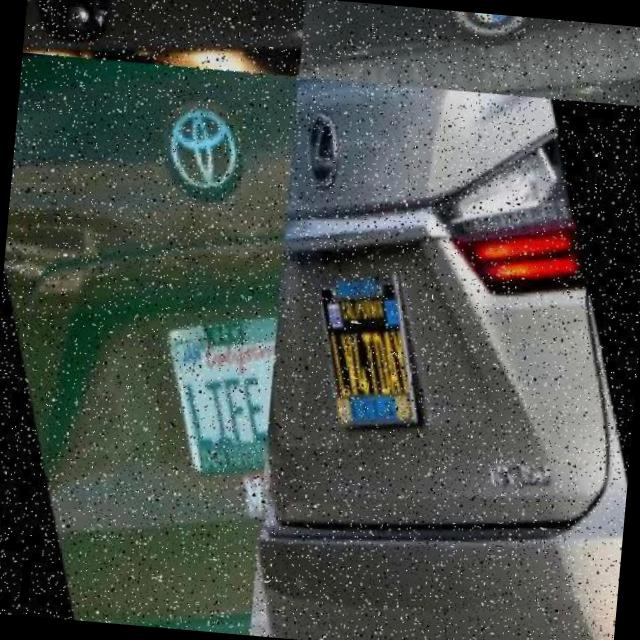LicensePlate: (148, 284, 280, 488), (300, 260, 433, 436), (22, 28, 268, 73)
